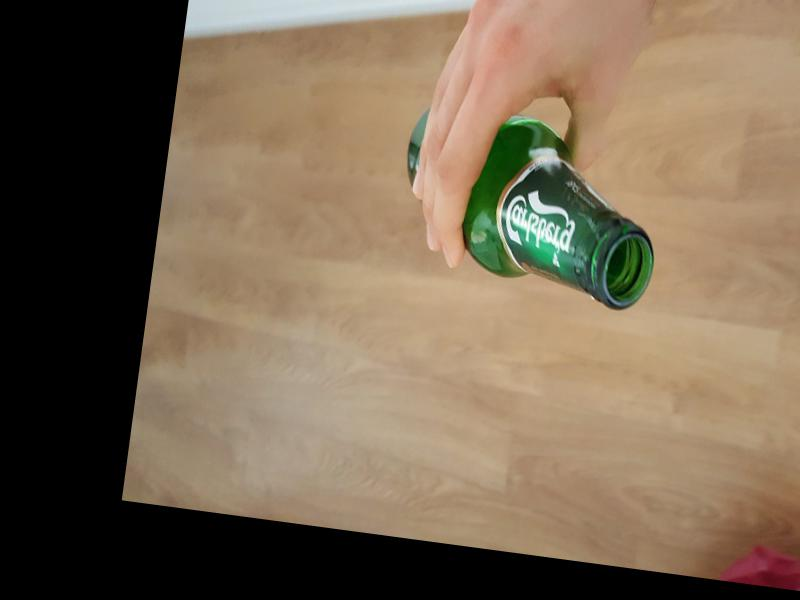Beer: (390, 103, 669, 316)
